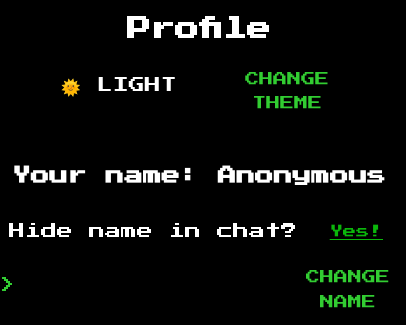
it: Profile › Toggle profile visibility
Click the button "Yes!". click: [356, 231]
box: [324,223,389,239]
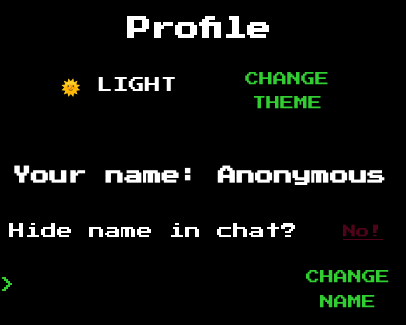
Expected: the button "No!" is shown, [337,223,389,239]
